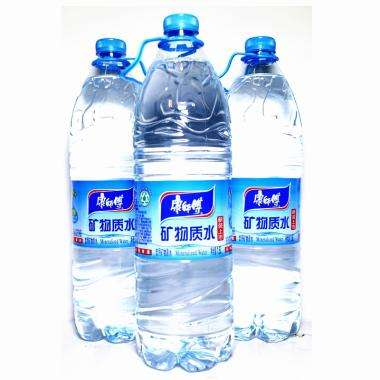amwater: (67, 8, 314, 374)
